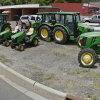Tractor: (31, 6, 100, 52)
